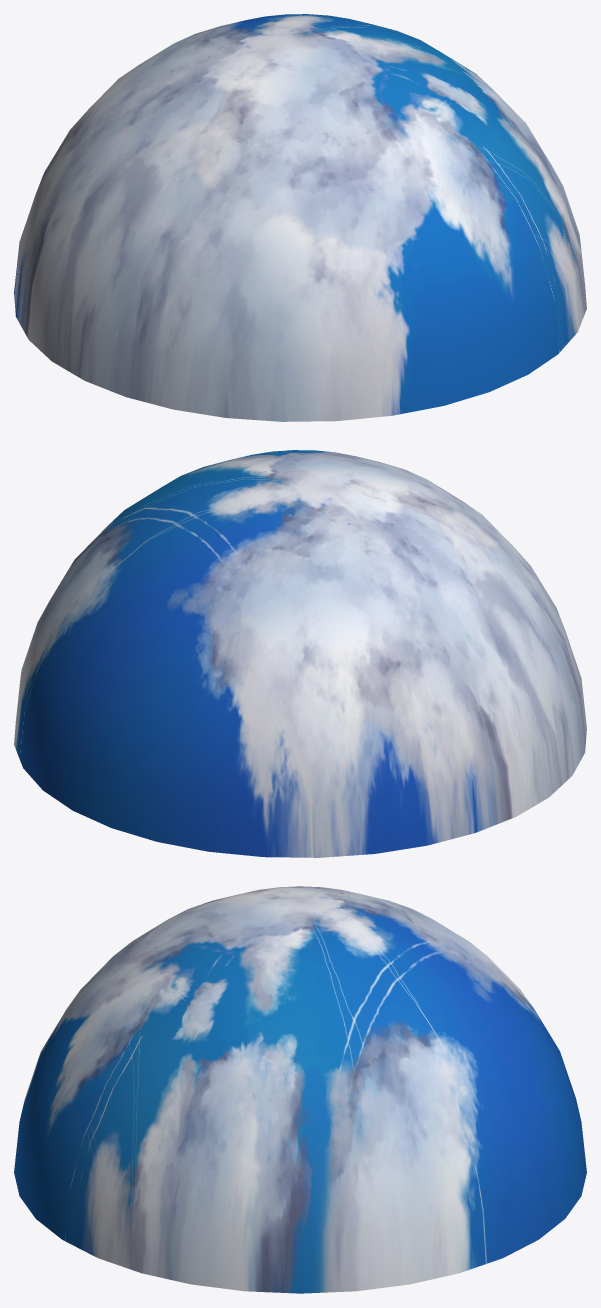
The model's file is Sky.FBX.
3 views of the same model, one above another, from view 1: azimuth 30°, elevation 25°; view 2: azimuth 150°, elevation 25°; view 3: azimuth 270°, elevation 25° (orthographic).
Visible parts, largest first — view 1: Sphere002; view 2: Sphere002; view 3: Sphere002.
Part boxes in pixels (<box>): Sphere002: <box>14,14,586,421</box>; Sphere002: <box>14,450,586,857</box>; Sphere002: <box>14,886,586,1293</box>.
Bounding box in the file's own units: 682 × 341 × 682.
